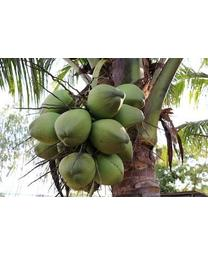coconut: (52, 107, 93, 146), (83, 83, 124, 117), (58, 152, 96, 187), (91, 119, 130, 153), (28, 111, 64, 142), (98, 154, 131, 187), (109, 103, 151, 128), (113, 81, 147, 109)
